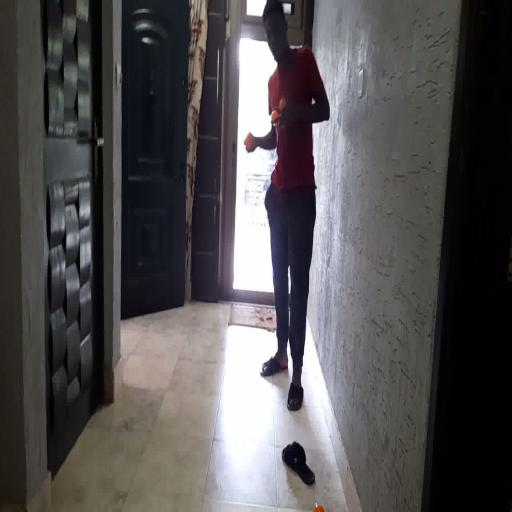plastic-ball: (313, 501, 325, 512)
